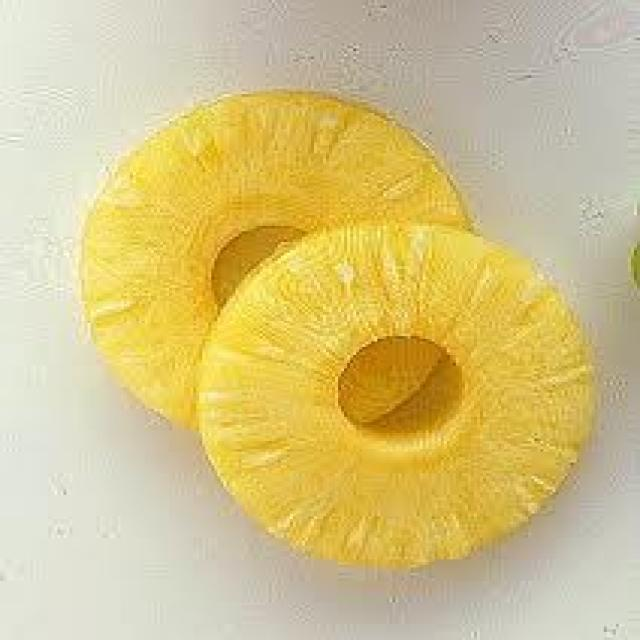Pineapple: (39, 38, 613, 598)
